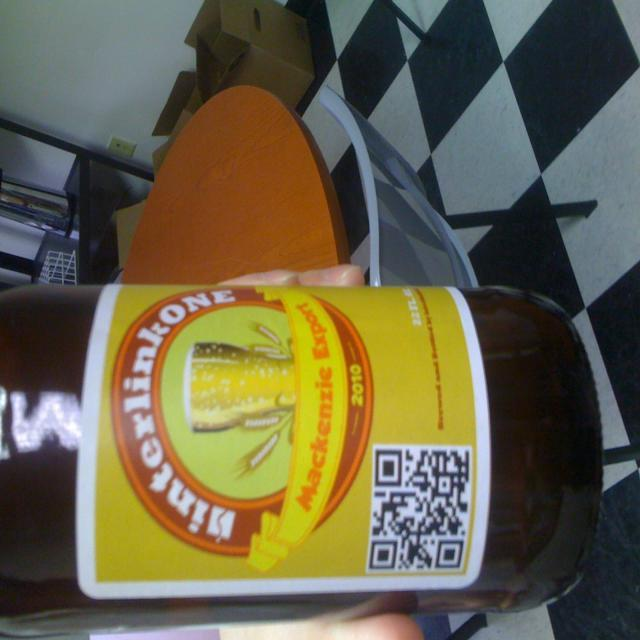qr-code: (368, 450, 468, 570)
